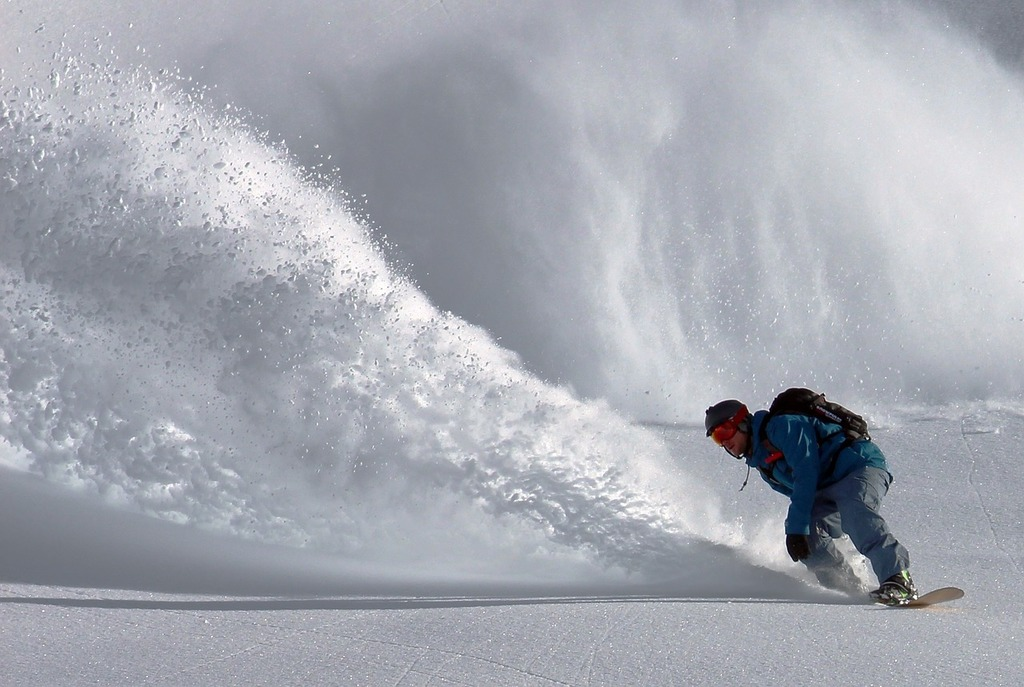snowboarder: (699, 385, 966, 613)
